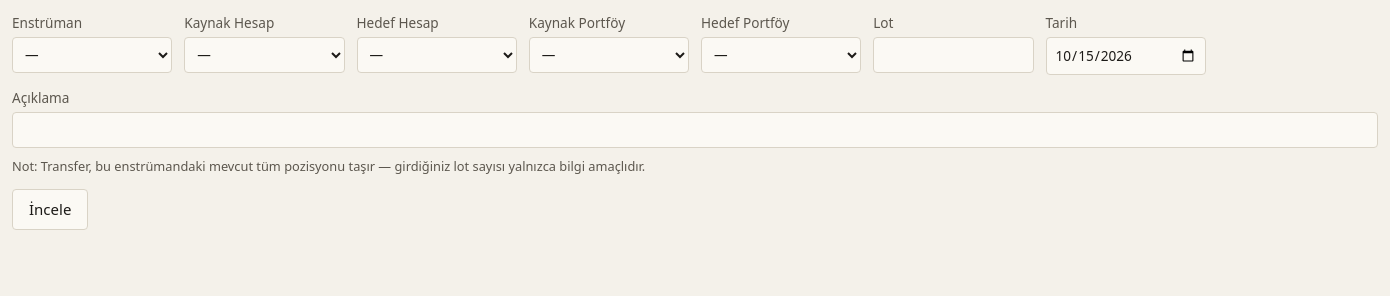
Test case: VarlikTransferiFormu › rejects a transfer exceeding the total open lot for the instrument
The image size is (1390, 296).
THYAO has an open lot of 25 in the fixture.
Select "THYAO" in the dropdown labelled "Enstrüman" at (92, 55), box [12,37,172,73]
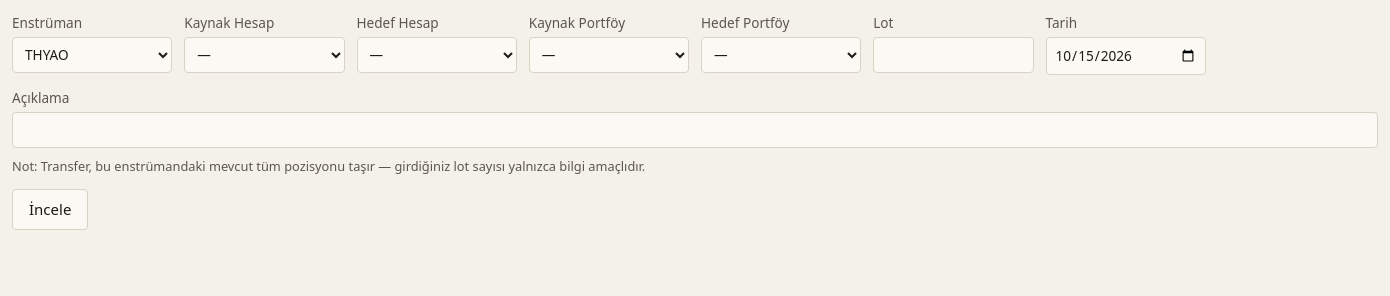
Select "Garanti Yatırım" in the dropdown labelled "Kaynak Hesap" at (264, 55), box [184,37,345,73]
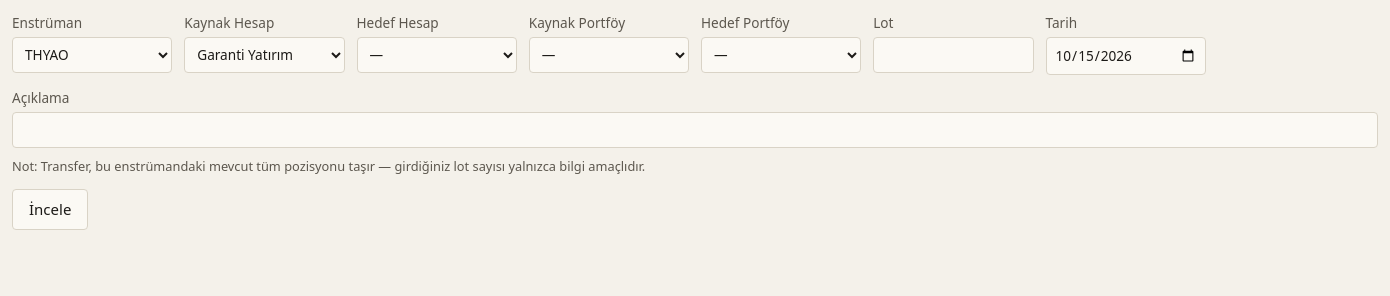
Select "Midas" in the dropdown labelled "Hedef Hesap" at (437, 55), box [356,37,517,73]
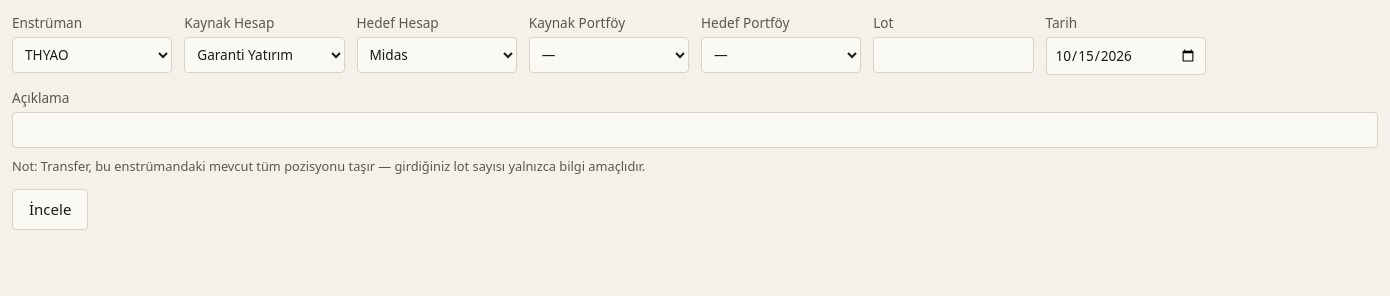
Type "999999" into the number field labelled "Lot" at (953, 55), box [873,37,1034,73]
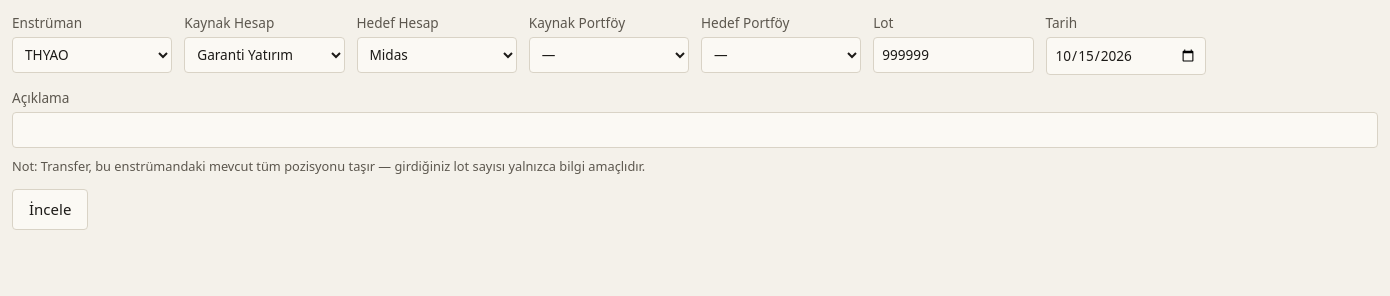
Click the button "İncele" at (50, 210), box [12,189,88,230]
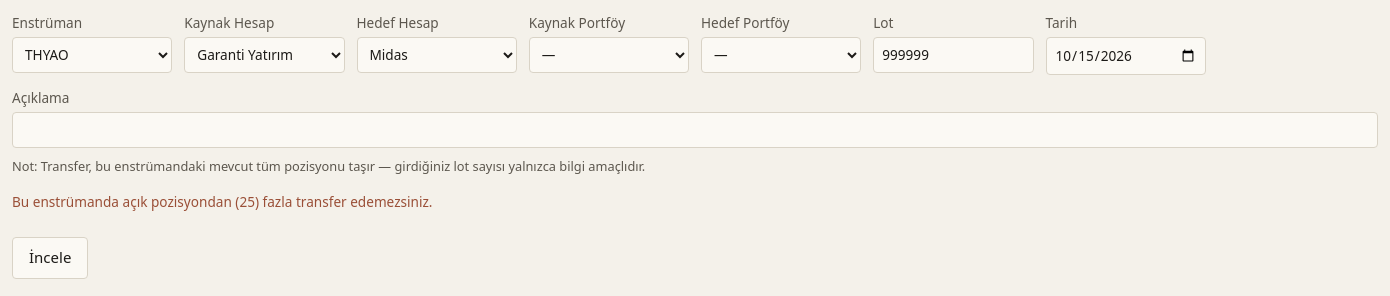
Expected: the text "açık pozisyondan (25) fazla" is shown, [12,192,432,211]
